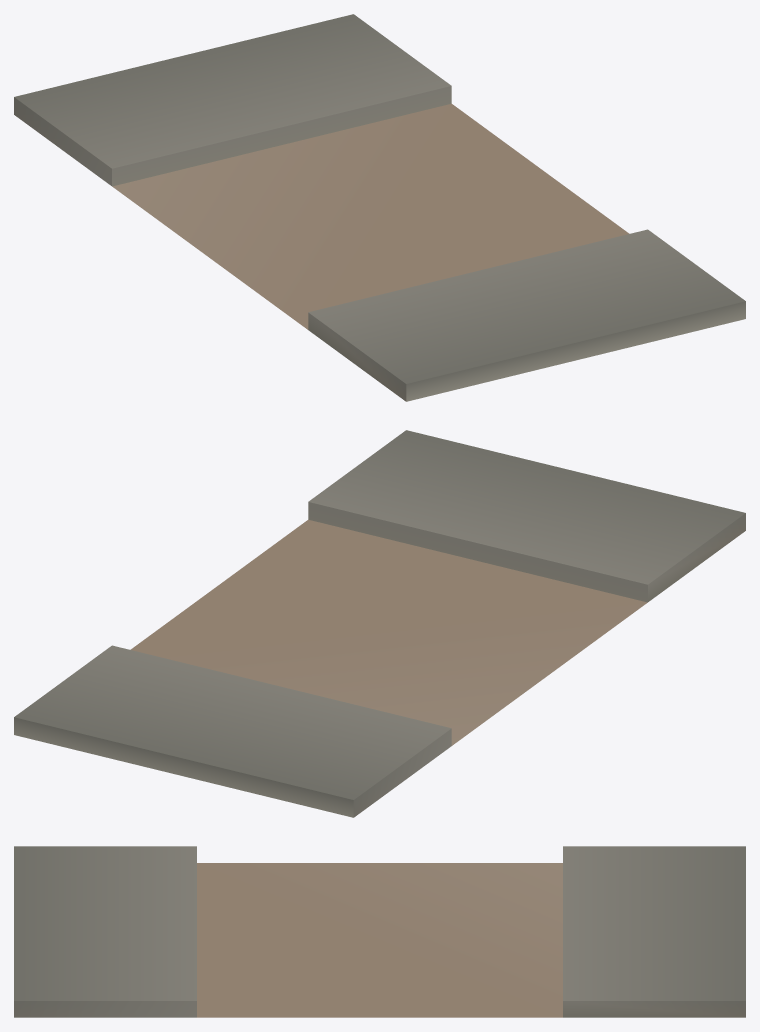
The model's file is road-dirt-straight.glb.
3 renders of one model, top to bottom at view 1: azimuth 30°, elevation 25°; view 2: azimuth 150°, elevation 25°; view 3: azimuth 270°, elevation 25°, orthographic. The views are drawn at different scales.
Visible parts, largest first — view 1: road-dirt-straight; view 2: road-dirt-straight; view 3: road-dirt-straight.
Boxes of the visible parts, left/top/right/bottom form: road-dirt-straight: left=14, top=14, right=745, bottom=401; road-dirt-straight: left=14, top=430, right=745, bottom=817; road-dirt-straight: left=14, top=846, right=745, bottom=1017.
Size of the model in its own units: 1 by 0.05 by 2.
